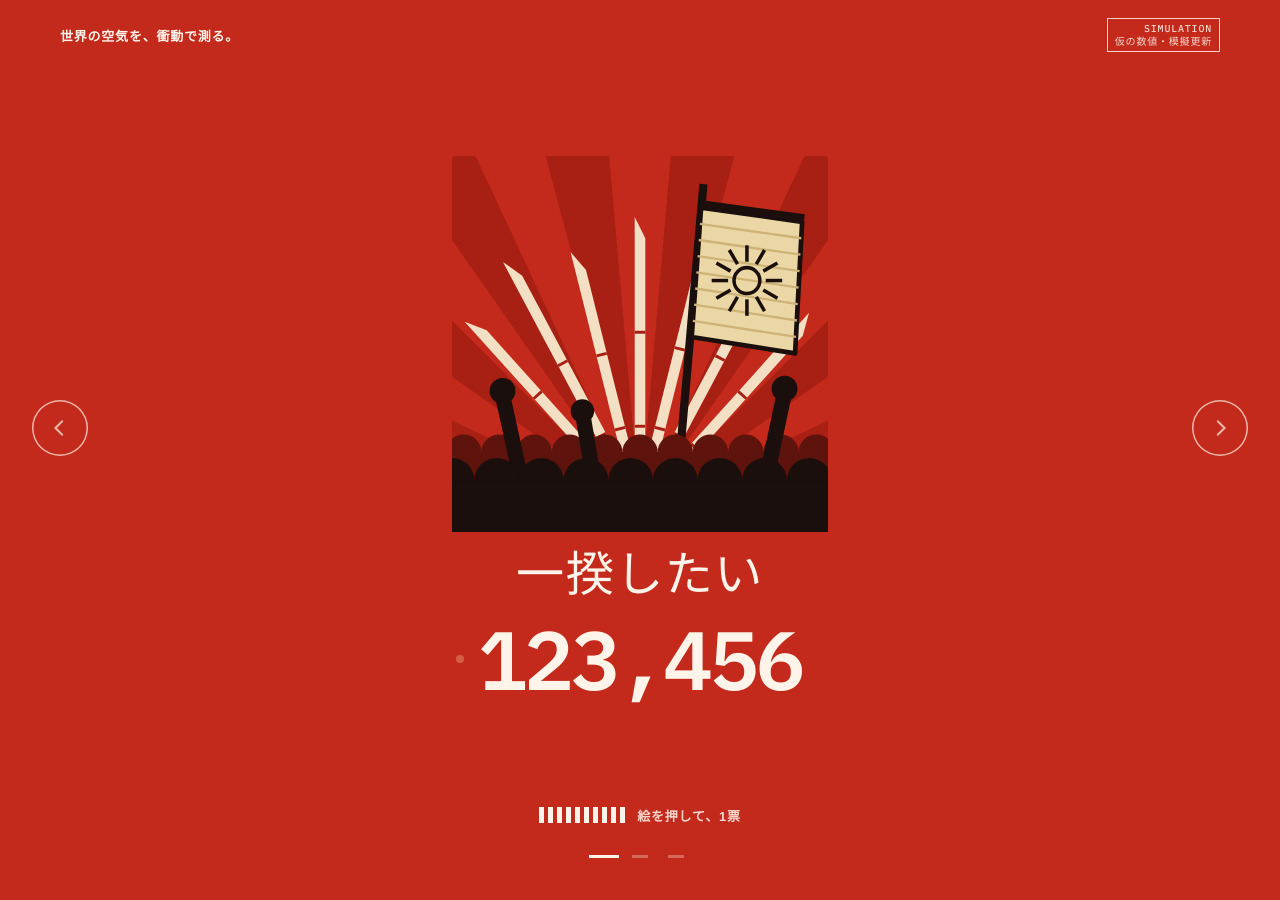
it: MainScreen › US-B2・C-09: 矢印ボタンで切り替わり、端から端へループする
Step 1. Click the button named "前の衝動" → (60, 428), box [32,400,88,456]
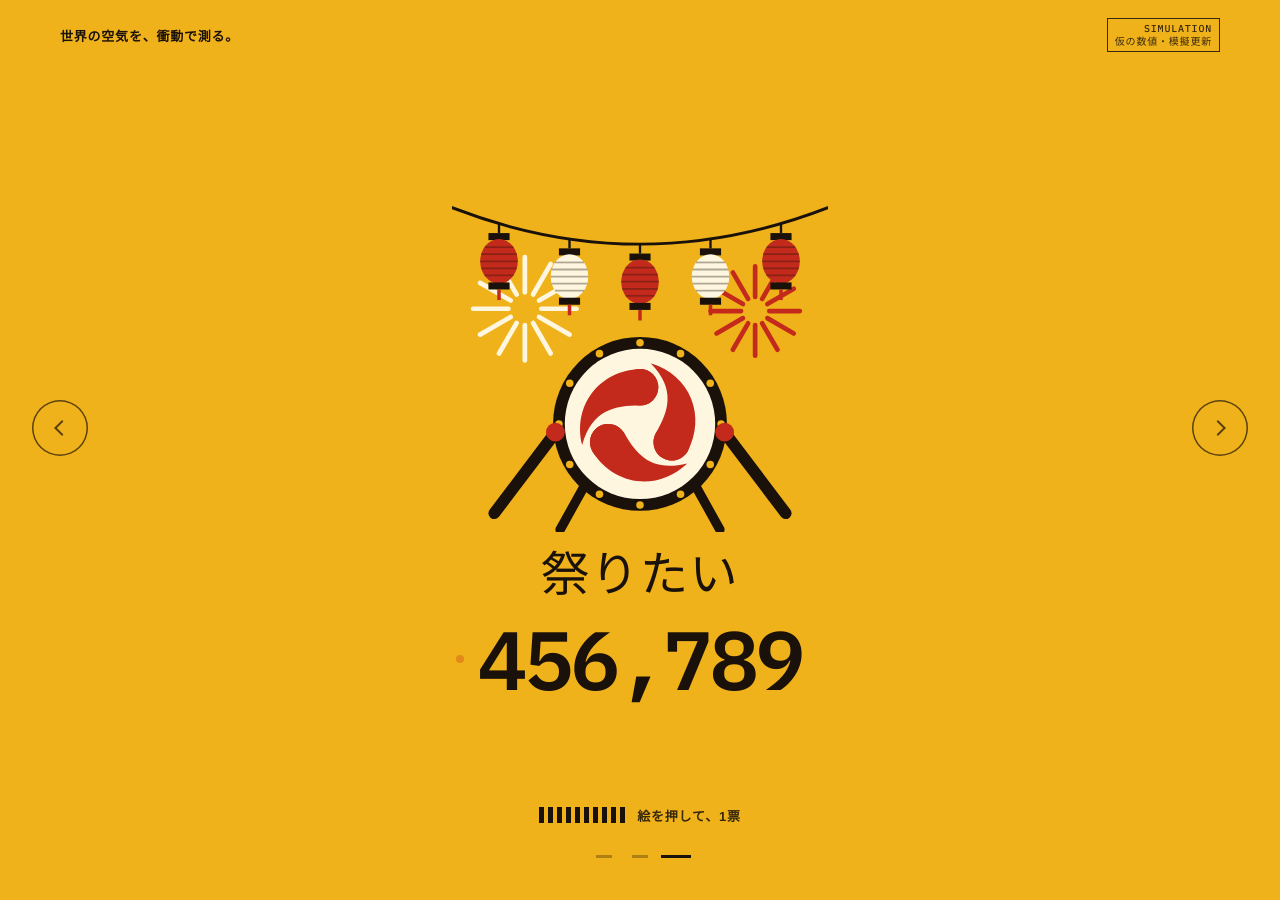
Step 2. Click the button named "次の衝動" → (1220, 428), box [1192,400,1248,456]
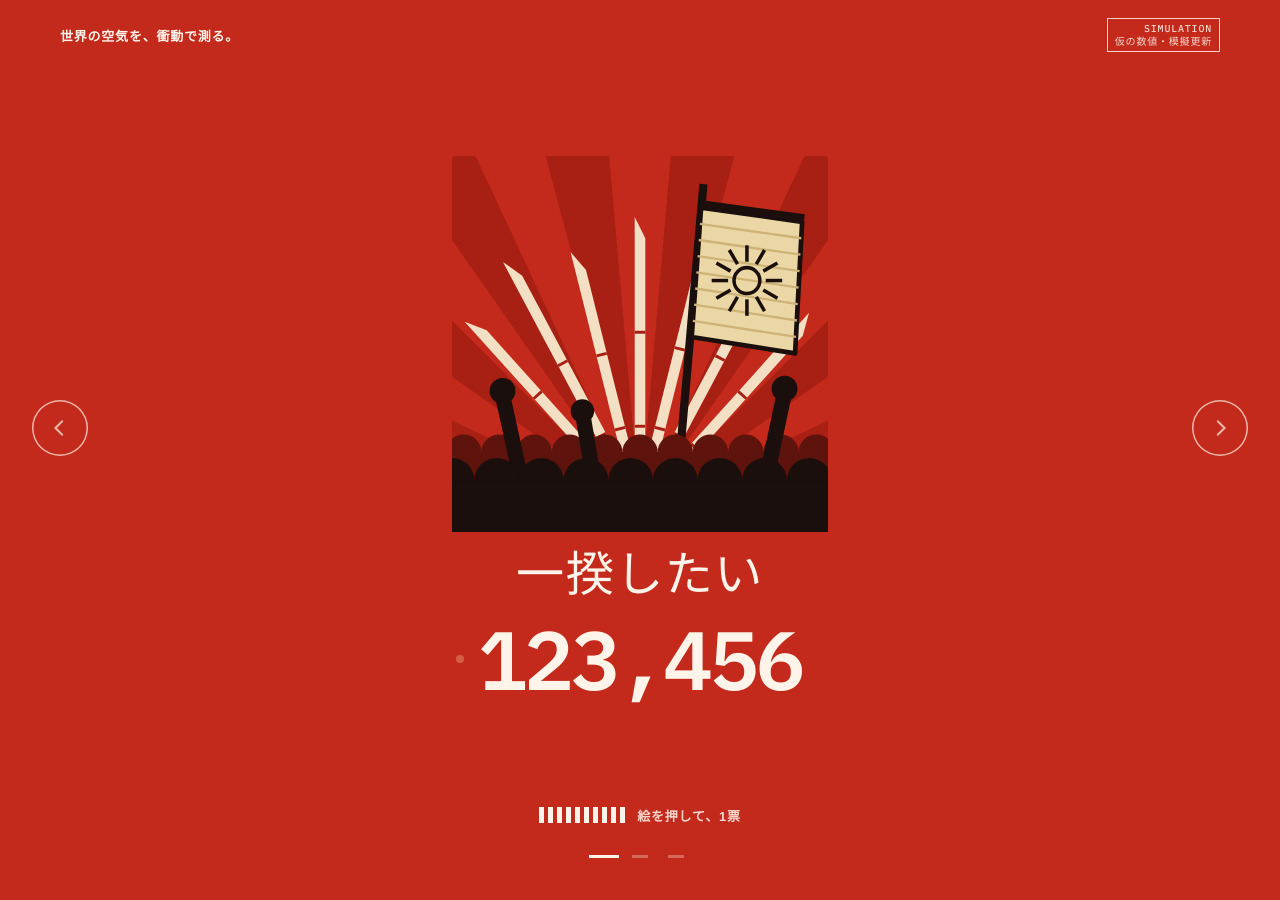
Step 3. Click the button named "次の衝動" → (1220, 428), box [1192,400,1248,456]
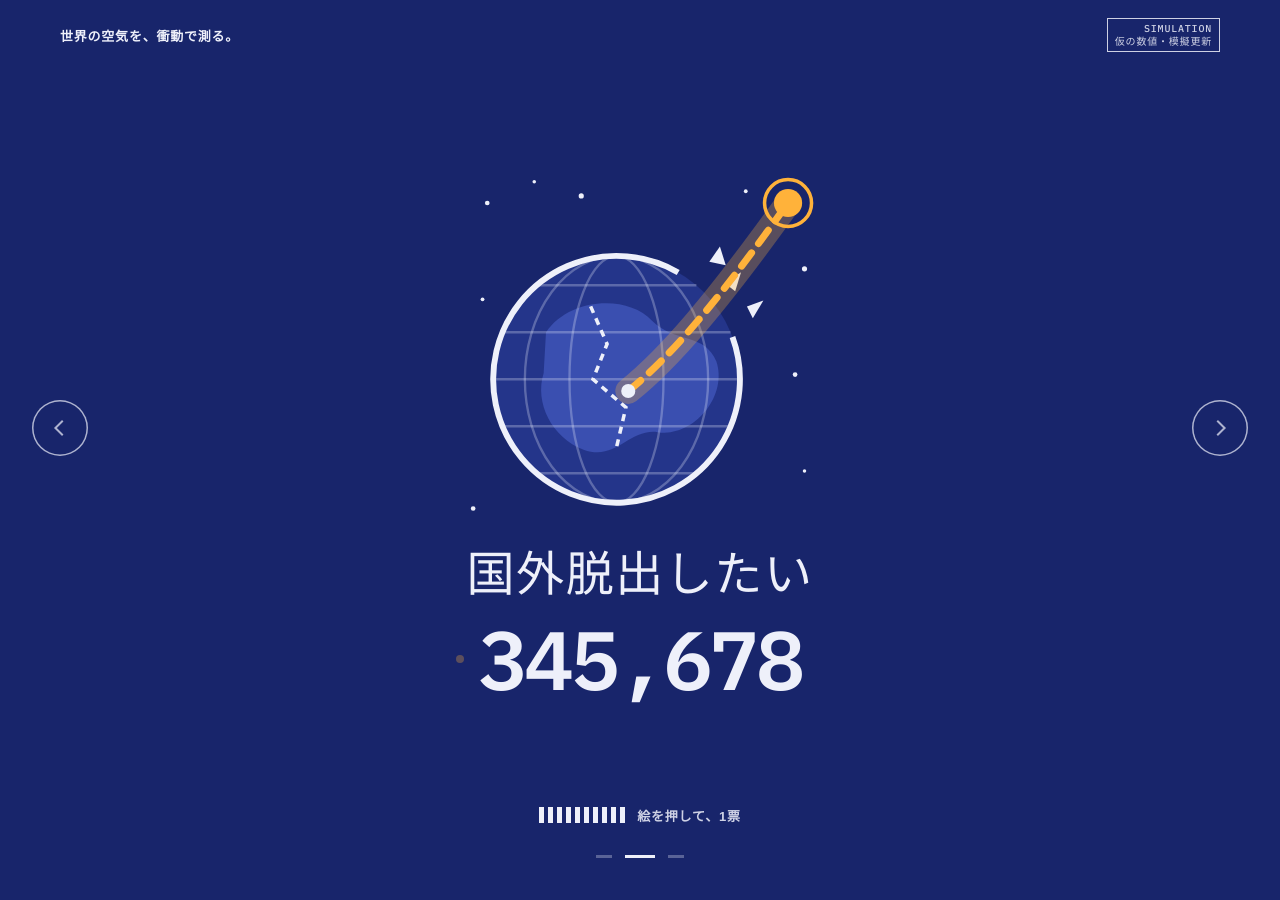
Step 4. Click the button named "次の衝動" → (1220, 428), box [1192,400,1248,456]
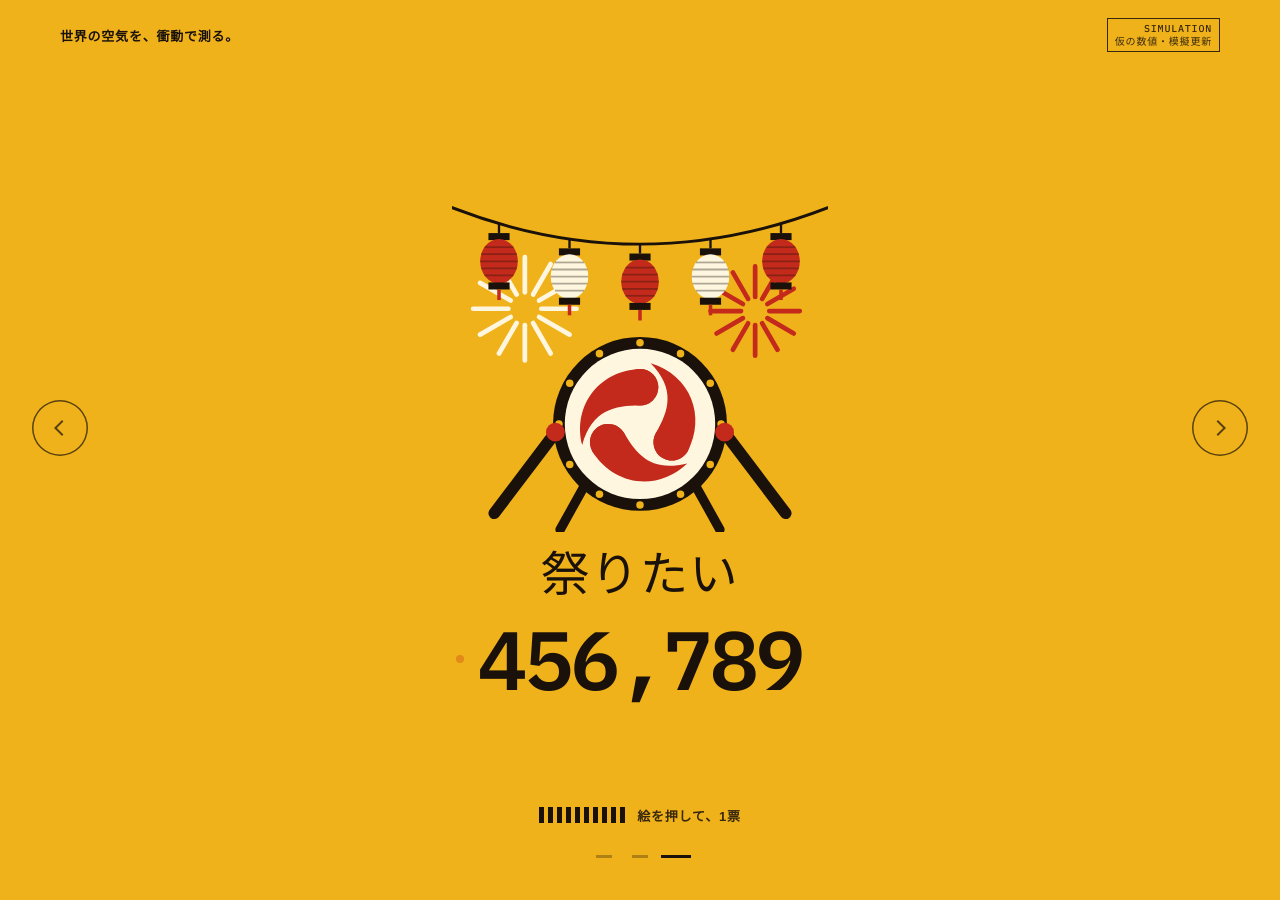
Now the heading "祭りたい" is shown, box [541,548,739,601]
